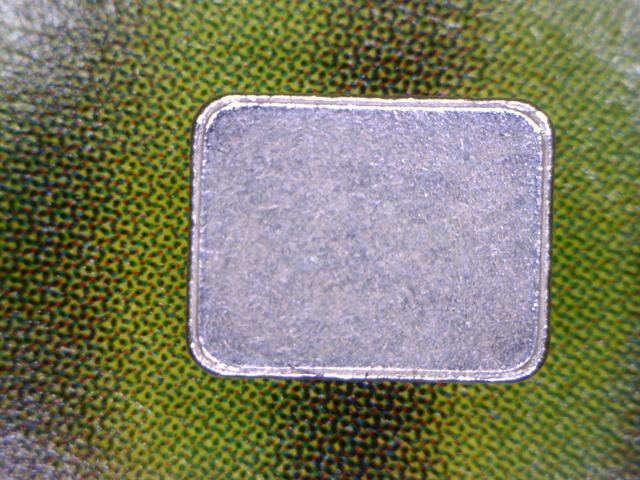nok: (184, 94, 557, 387)
